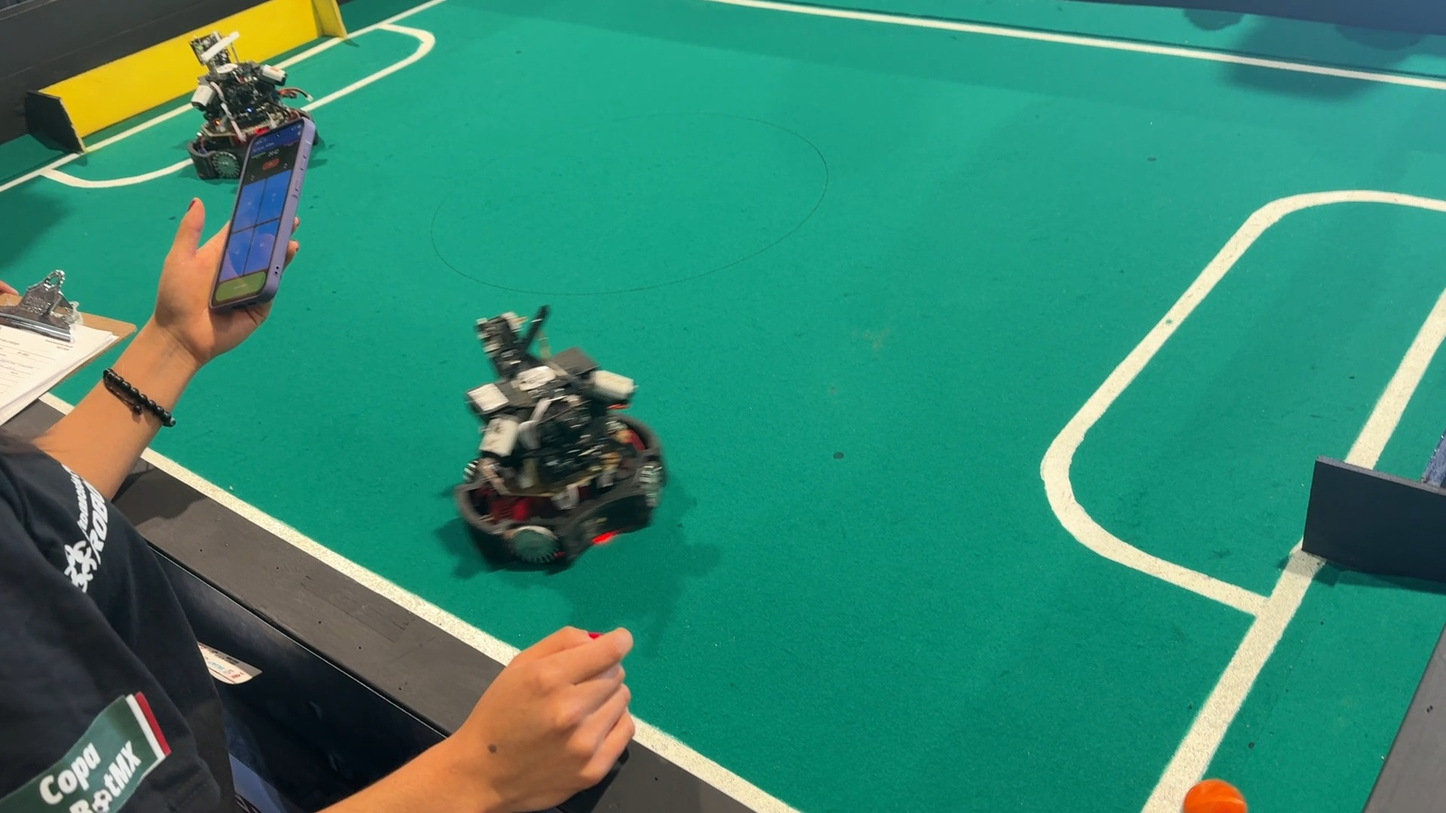Robot: (444, 290, 676, 575), (158, 17, 326, 194)
